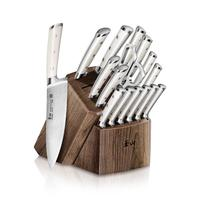knife: (73, 15, 170, 147), (37, 17, 71, 171)
